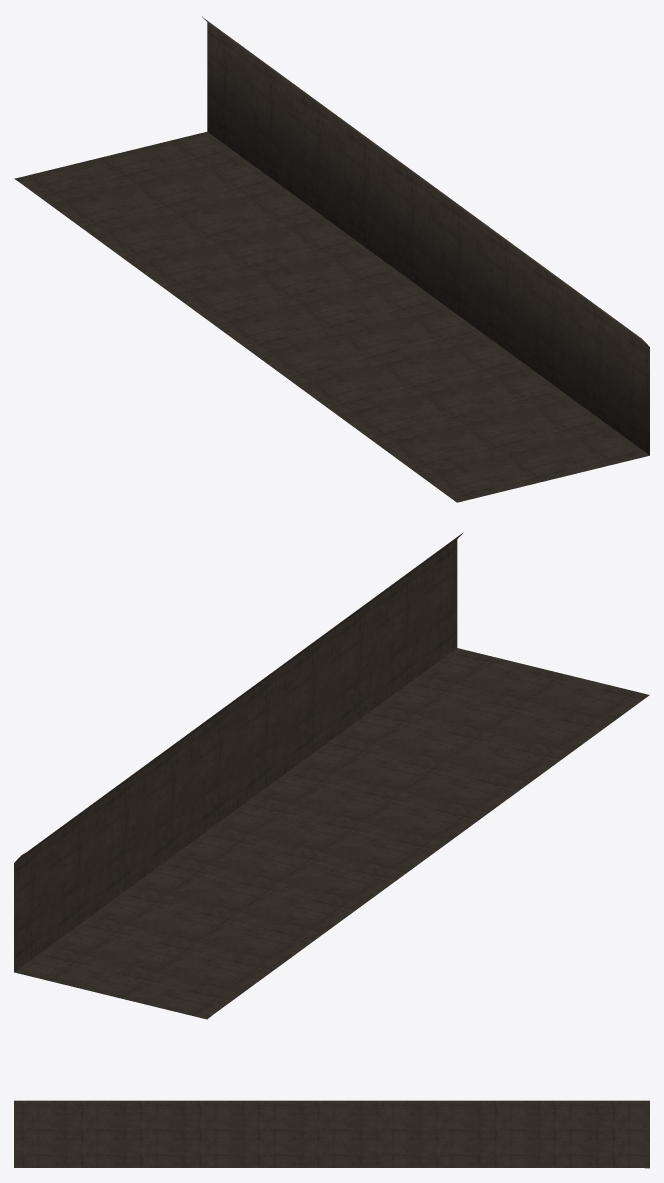
File: AMB_MEI_CHIKA_L.glb
The picture shows the model from 3 angles, top to bottom: view 1: azimuth 30°, elevation 25°; view 2: azimuth 150°, elevation 25°; view 3: azimuth 270°, elevation 25°; orthographic projection. The views are drawn at different scales.
Visible parts, largest first — view 1: BASE; view 2: BASE; view 3: BASE.
Part boxes in pixels (x1=…): BASE: x1=14, y1=16, x2=649, y2=502; BASE: x1=14, y1=532, x2=649, y2=1019; BASE: x1=14, y1=1100, x2=649, y2=1168.
Bounding box in the file's own units: 25.44 × 15 × 101.
1 material, 1 textured.
